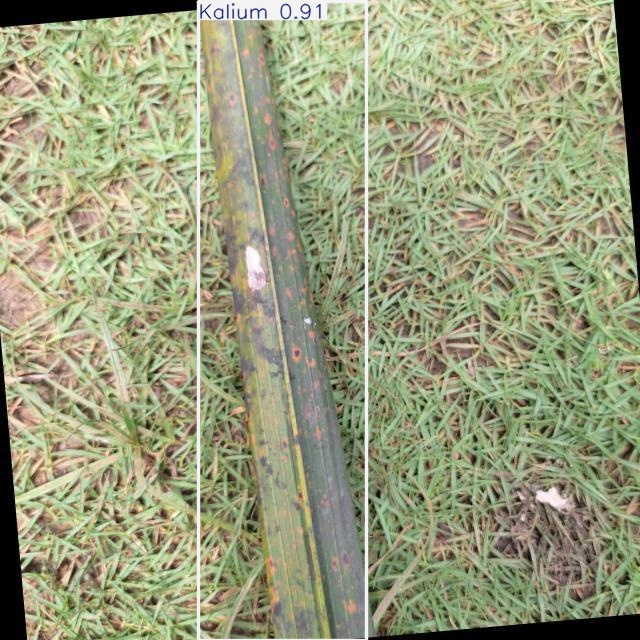Kalium: (198, 2, 367, 640)
